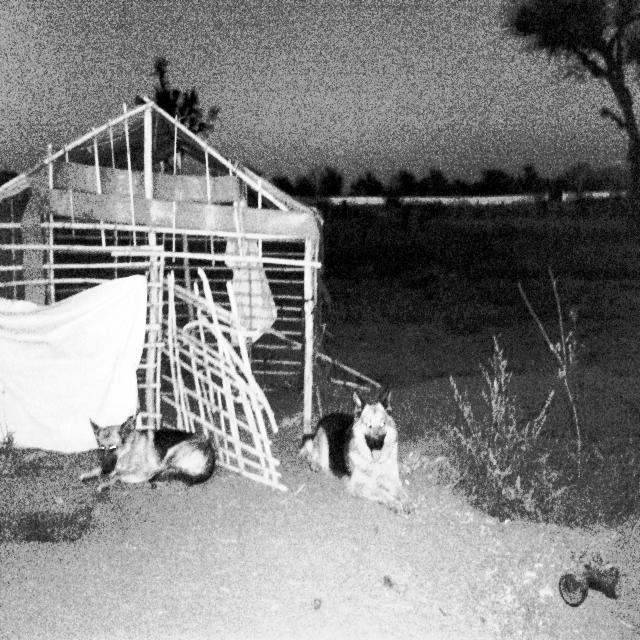Dog: (315, 361, 431, 547), (95, 417, 234, 506)
